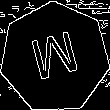M_S: (26, 27, 83, 88)
